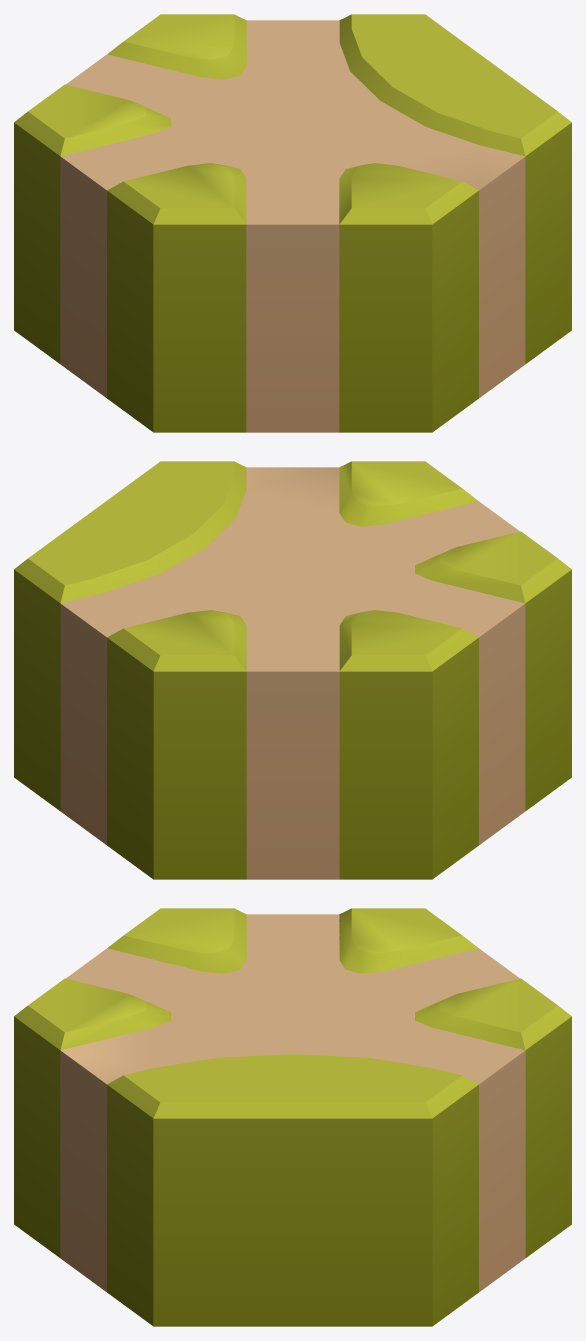
File: hex_road_K.glb
3 renders of one model, top to bottom at view 1: azimuth 30°, elevation 25°; view 2: azimuth 150°, elevation 25°; view 3: azimuth 270°, elevation 25°, orthographic.
Parts seen in each view (by area): view 1: hex_road_K; view 2: hex_road_K; view 3: hex_road_K.
Boxes of the visible parts, bbox=[...] form: hex_road_K: bbox=[14, 14, 571, 432]; hex_road_K: bbox=[14, 461, 571, 879]; hex_road_K: bbox=[14, 908, 571, 1326].
Size of the model in its own units: 2 by 1 by 2.31.
Materials: 1 (1 with a texture image).
